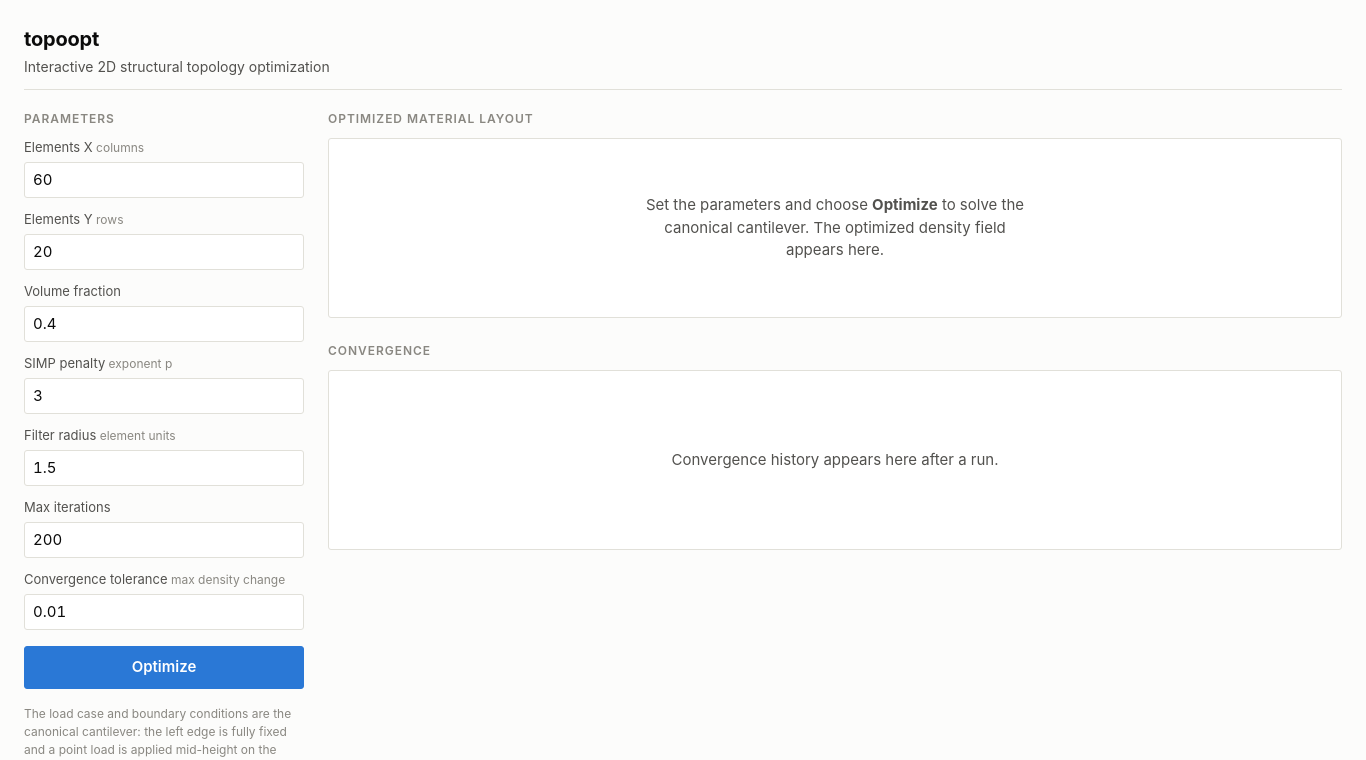
Test: a successful run › renders the final metrics and the converged state
Step 1. Click the button "Optimize" → (164, 667), box [24, 646, 304, 688]
(page scrolled)
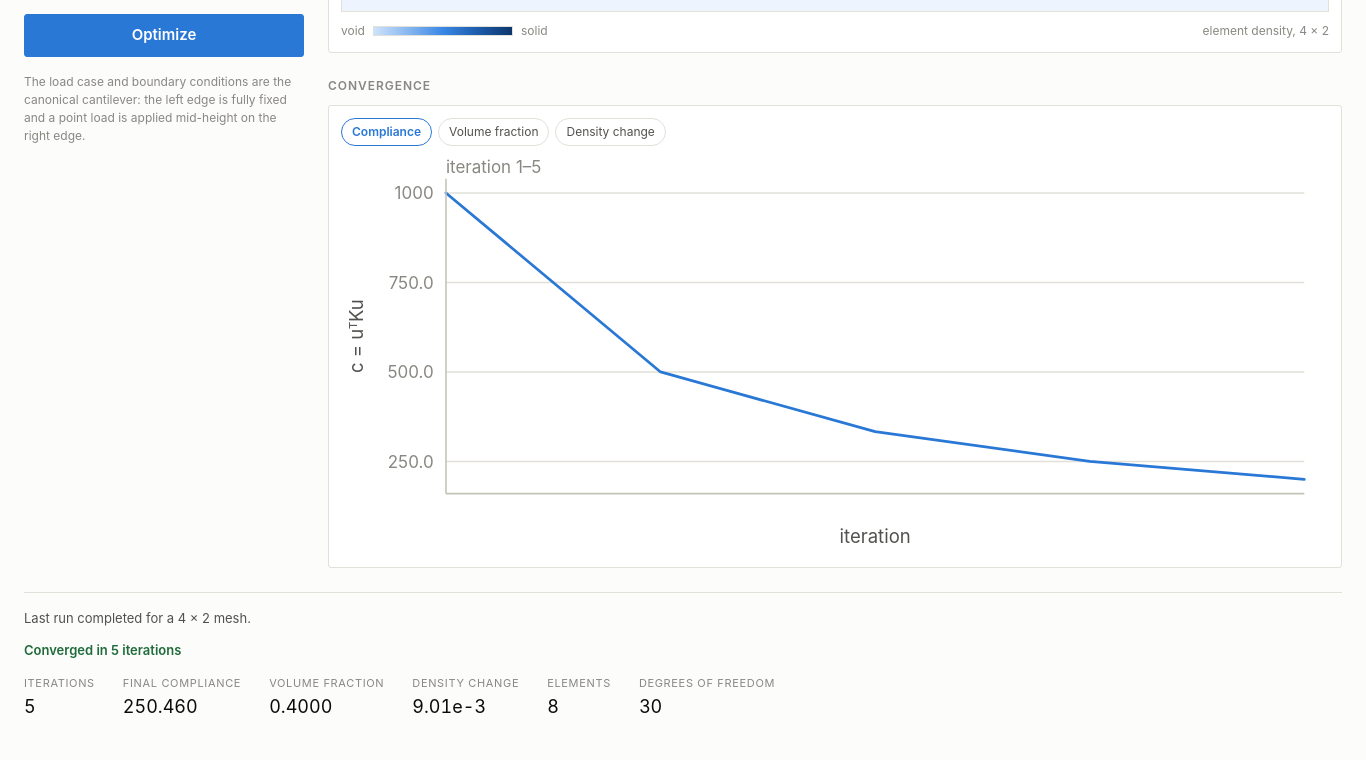
Check: the text with test id "convergence-status" reads "Converged in 5 iterations", box [24, 642, 181, 658]
Check: the text "250.460" is shown, box [123, 696, 198, 717]
Check: the text "0.4000" is shown, box [269, 696, 332, 717]
